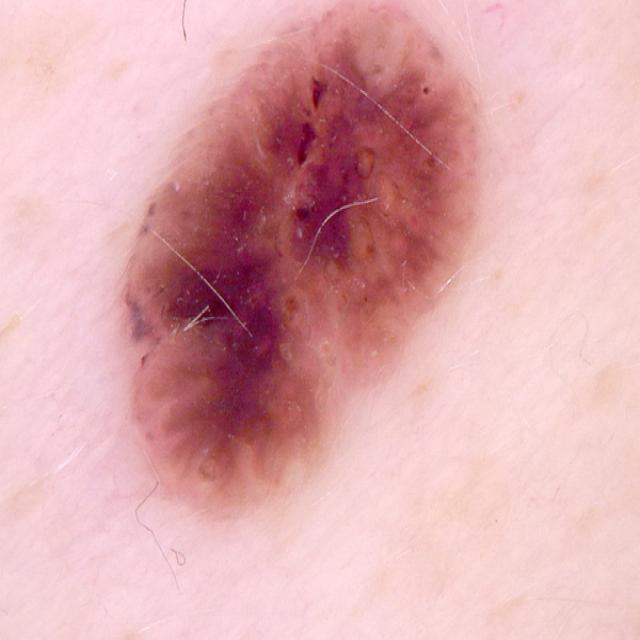Skin-Cancer Pigmented benign keratosis: (49, 21, 585, 628)
